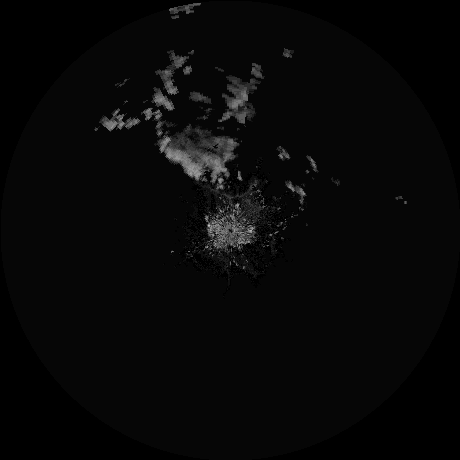frontgust: (208, 182, 255, 199)
